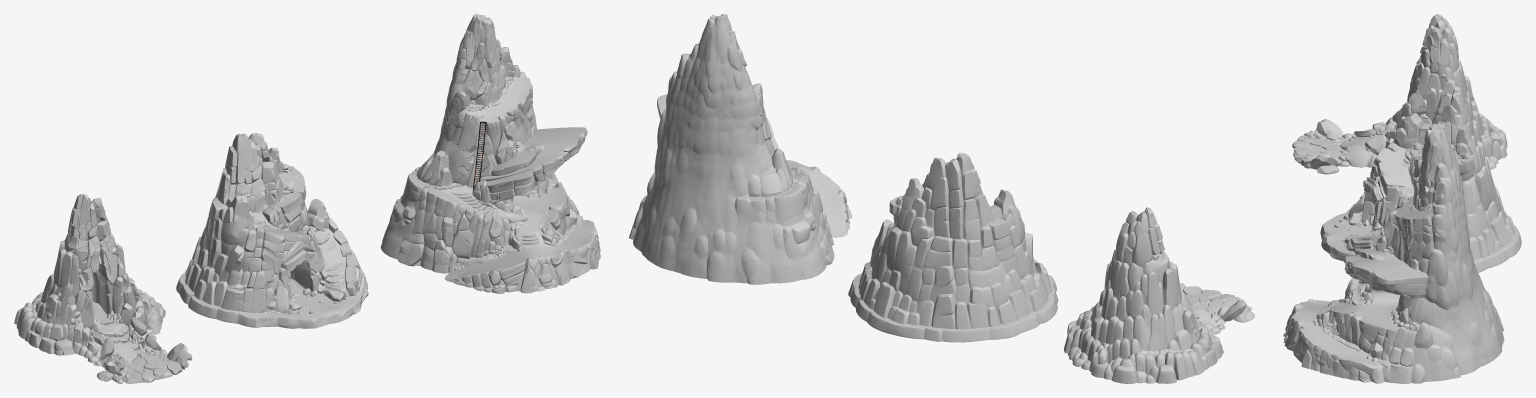
The model's file is RockMountains.fbx.
3 views of the same model, side by side, from view 1: azimuth 30°, elevation 25°; view 2: azimuth 150°, elevation 25°; view 3: azimuth 270°, elevation 25° (orthographic). The views are drawn at different scales.
Visible parts, largest first — view 1: Cave Rock Mountain3, Cave Rock Mountain2, Cave Rock Mountain1; view 2: Cave Rock Mountain3, Cave Rock Mountain2, Cave Rock Mountain1; view 3: Cave Rock Mountain3, Cave Rock Mountain2, Cave Rock Mountain1.
Boxes of the visible parts, x1=… form: Cave Rock Mountain3: x1=380, y1=14, x2=600, y2=293; Cave Rock Mountain2: x1=176, y1=133, x2=368, y2=328; Cave Rock Mountain1: x1=14, y1=194, x2=192, y2=383; Cave Rock Mountain3: x1=629, y1=14, x2=851, y2=284; Cave Rock Mountain2: x1=848, y1=152, x2=1058, y2=342; Cave Rock Mountain1: x1=1064, y1=207, x2=1254, y2=383; Cave Rock Mountain3: x1=1283, y1=123, x2=1504, y2=383; Cave Rock Mountain2: x1=1320, y1=79, x2=1521, y2=272; Cave Rock Mountain1: x1=1292, y1=14, x2=1507, y2=174.
Size of the model in its own units: 920 by 352 by 354.
